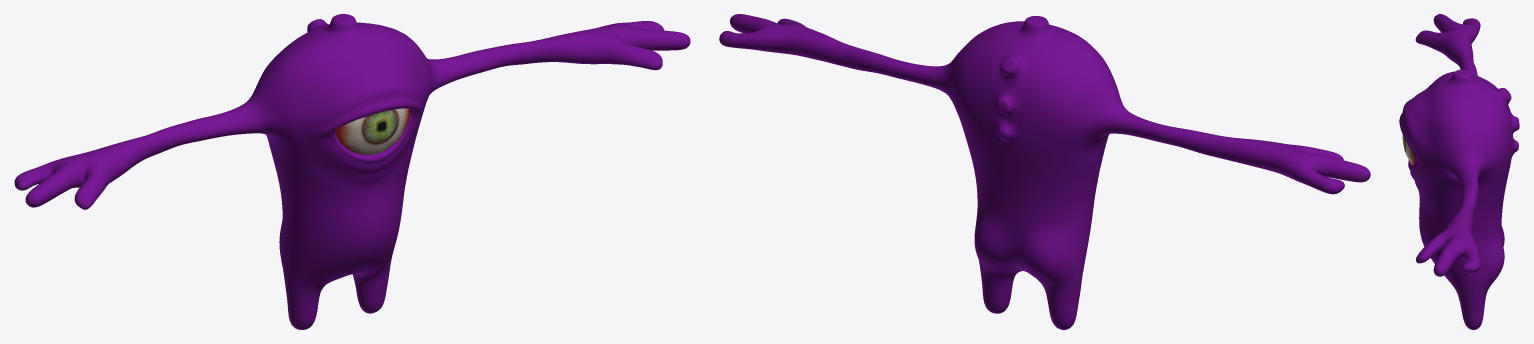
File: monster.glb
3 renders of one model, left to right at view 1: azimuth 30°, elevation 25°; view 2: azimuth 150°, elevation 25°; view 3: azimuth 270°, elevation 25°, orthographic. The views are drawn at different scales.
Visible parts, largest first — view 1: monster_low, eye_low; view 2: monster_low; view 3: monster_low, eye_low.
Boxes of the visible parts, <box> form: monster_low: <box>14,14,690,329</box>; eye_low: <box>335,108,409,154</box>; monster_low: <box>719,14,1370,329</box>; monster_low: <box>1399,14,1519,329</box>; eye_low: <box>1402,134,1415,164</box>.
Size of the model in its own units: 8.3 by 3.68 by 1.65.
Materials: 1 (1 with a texture image).
